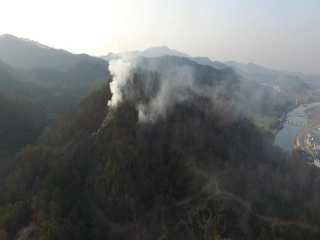smoke: (89, 45, 269, 134)
